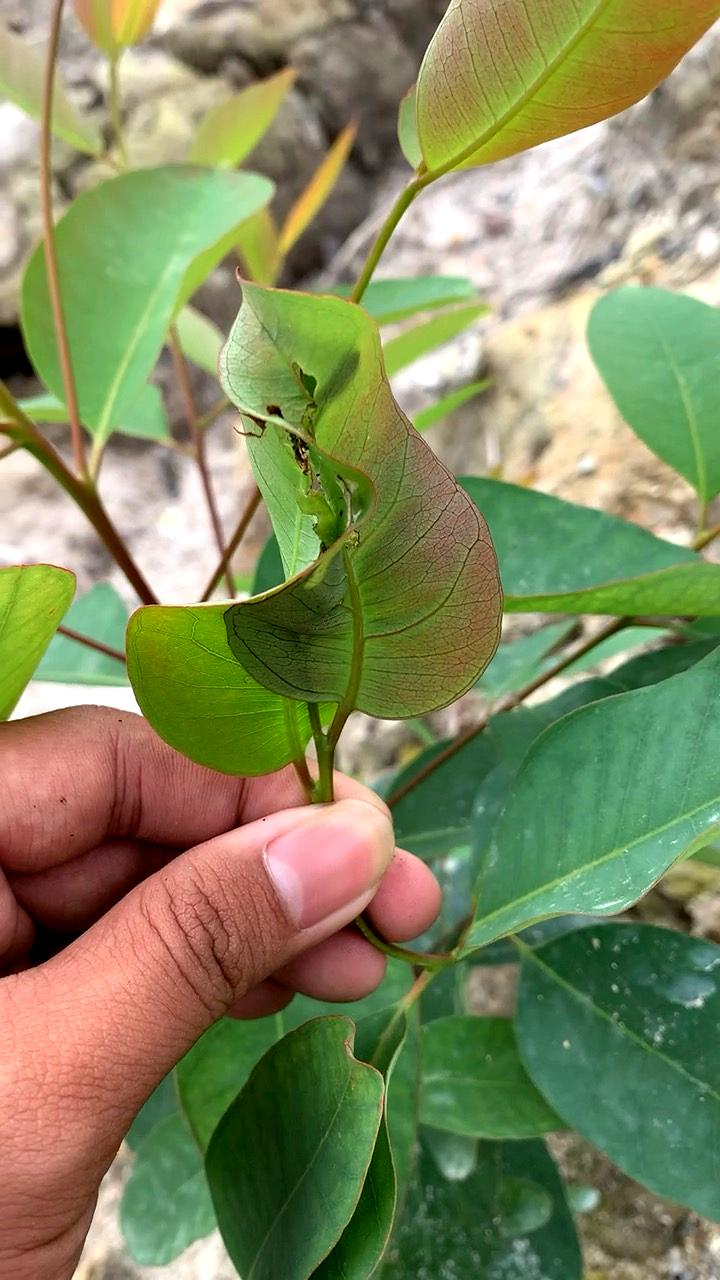Leaf Roller - Leaf: (97, 260, 521, 820)
